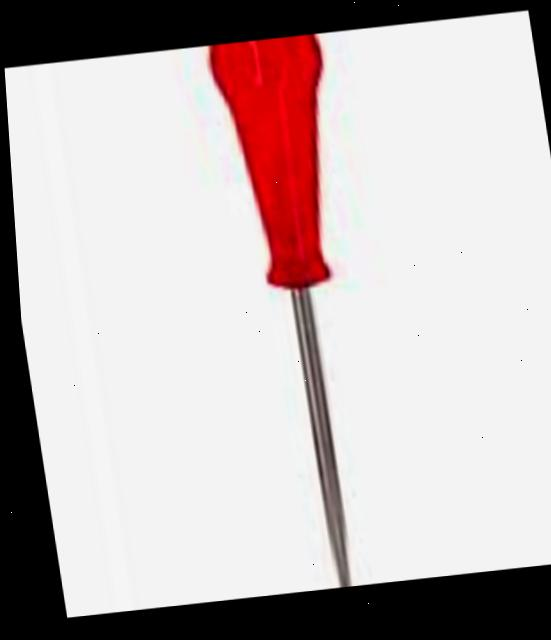ice pick: (202, 34, 396, 596)
